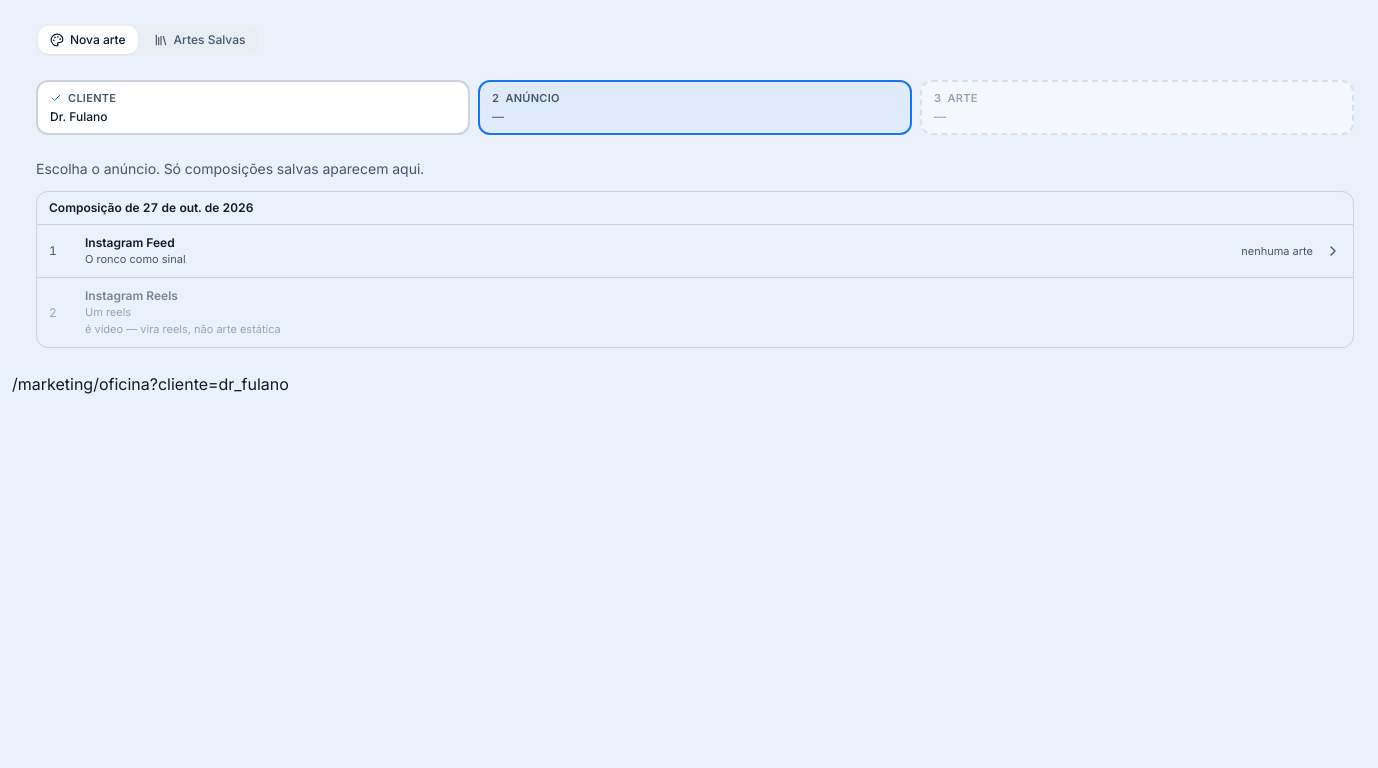
Scenario: Oficina › Nova arte › lista os anúncios da composição salva; o de vídeo vem desabilitado, com o motivo
The width and height of the screenshot is (1378, 768).
Expected: the button "Instagram Reels" is disabled, x1=37 y1=278 x2=1353 y2=347
Expected: the text "é vídeo — vira reels, não arte estática" is shown, x1=85 y1=322 x2=281 y2=336
Click the button "1 Instagram Feed O ronco como sinal nenhuma arte": (130, 242) x1=37 y1=224 x2=1353 y2=277
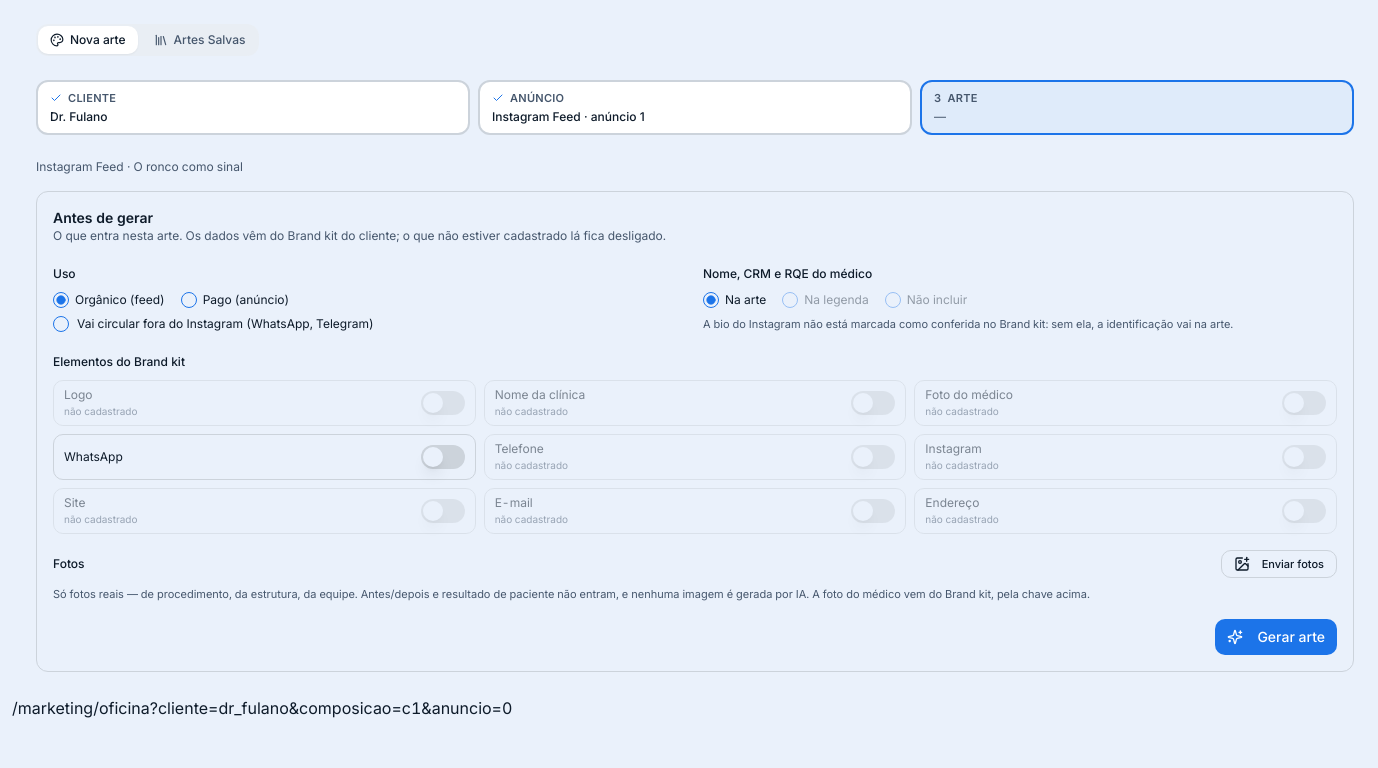
Expected: the text with test id "endereco" shows "composicao=c1&anuncio=0", x1=12 y1=698 x2=512 y2=718
